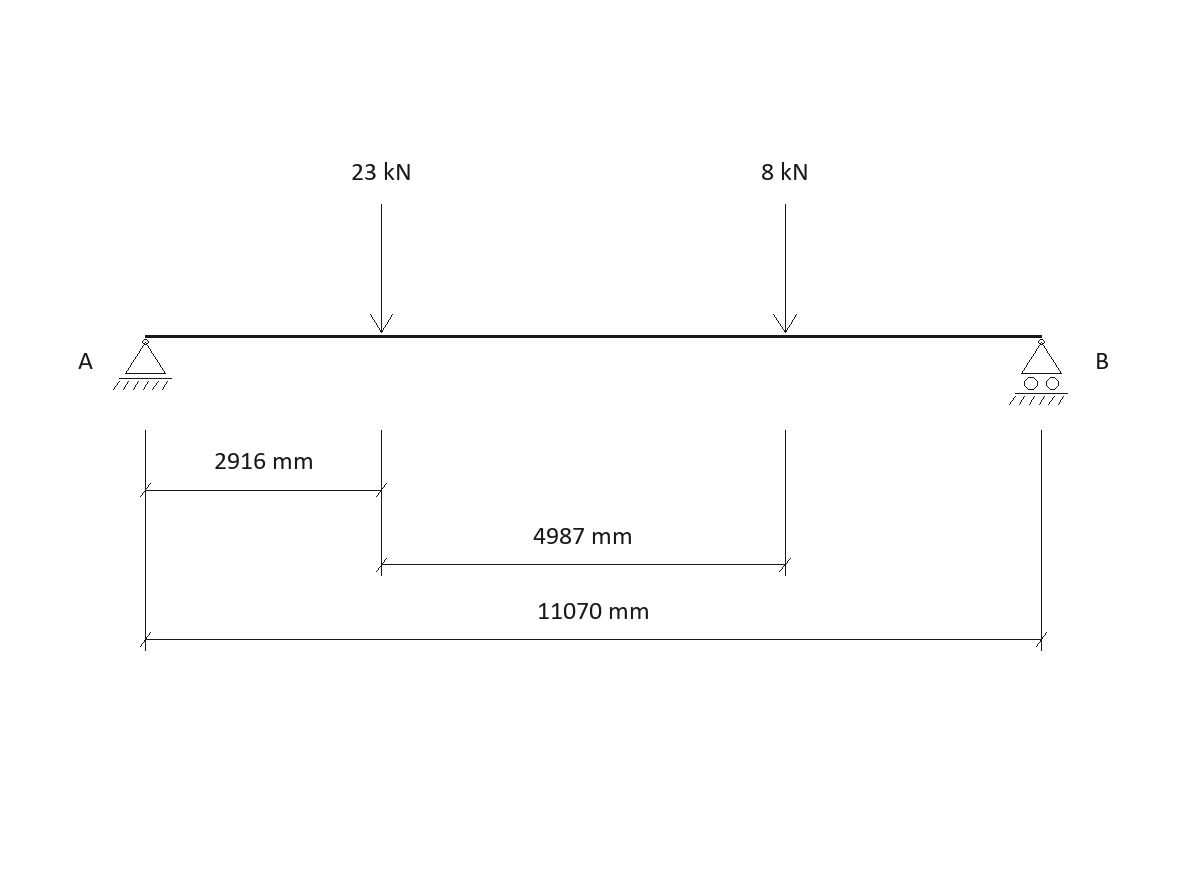pin_support: (113, 339, 172, 390)
point_load: (773, 204, 797, 333), (370, 204, 393, 333)
roller_support: (1009, 339, 1068, 405)
